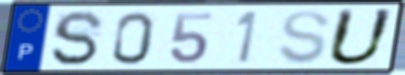0: (110, 10, 158, 66)
1: (234, 10, 260, 66)
5: (168, 11, 216, 65)
S: (48, 9, 107, 68), (275, 8, 333, 66)
U: (323, 7, 398, 67)
